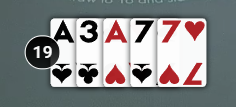3: (74, 17, 102, 46)
7: (127, 16, 157, 46), (155, 17, 183, 46)
a: (101, 17, 129, 47), (48, 19, 77, 47)
